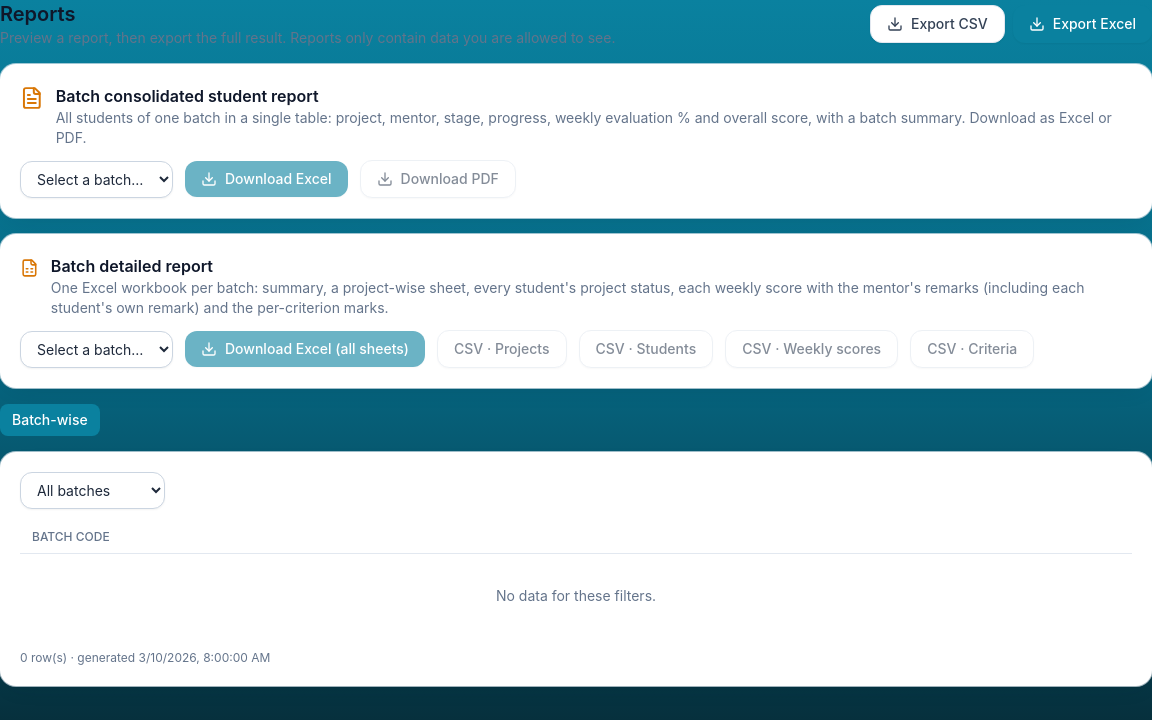
Test: batch detailed report downloads › shows a readable error when the download fails
Select "B1 – Batch One" in the dropdown named "Batch for detailed report" at (96, 349), box [20,330,173,368]
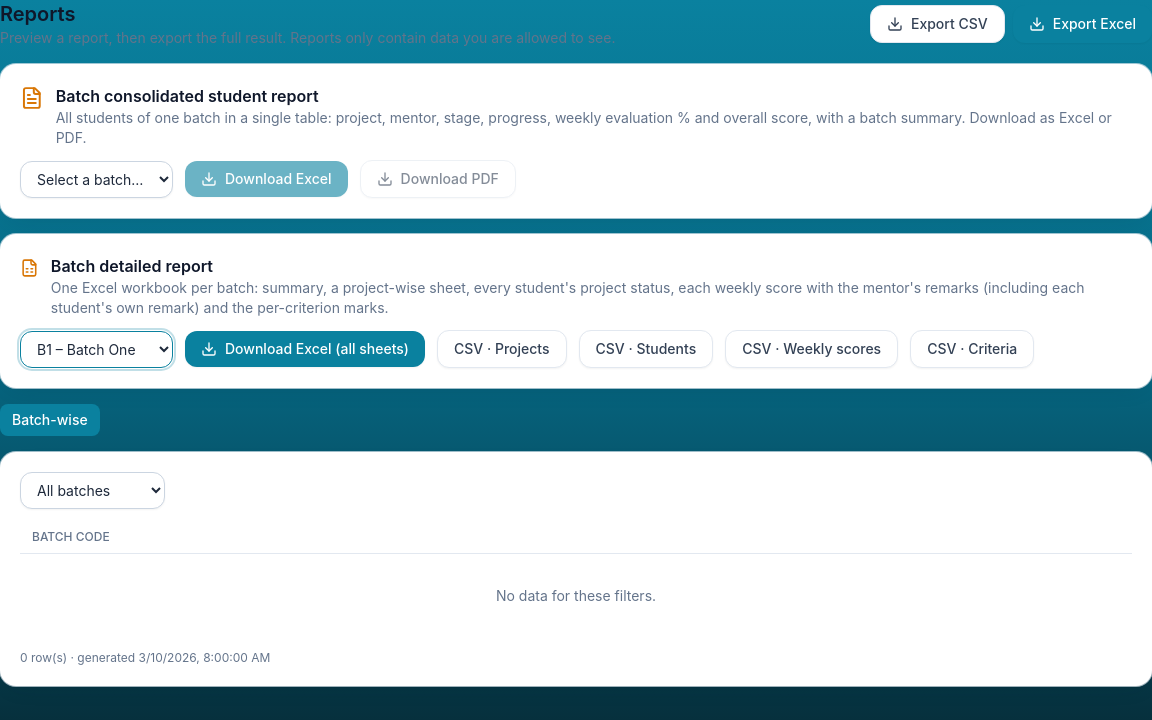
Click the button "Download Excel (all sheets)" at (305, 349), box [185,331,425,367]
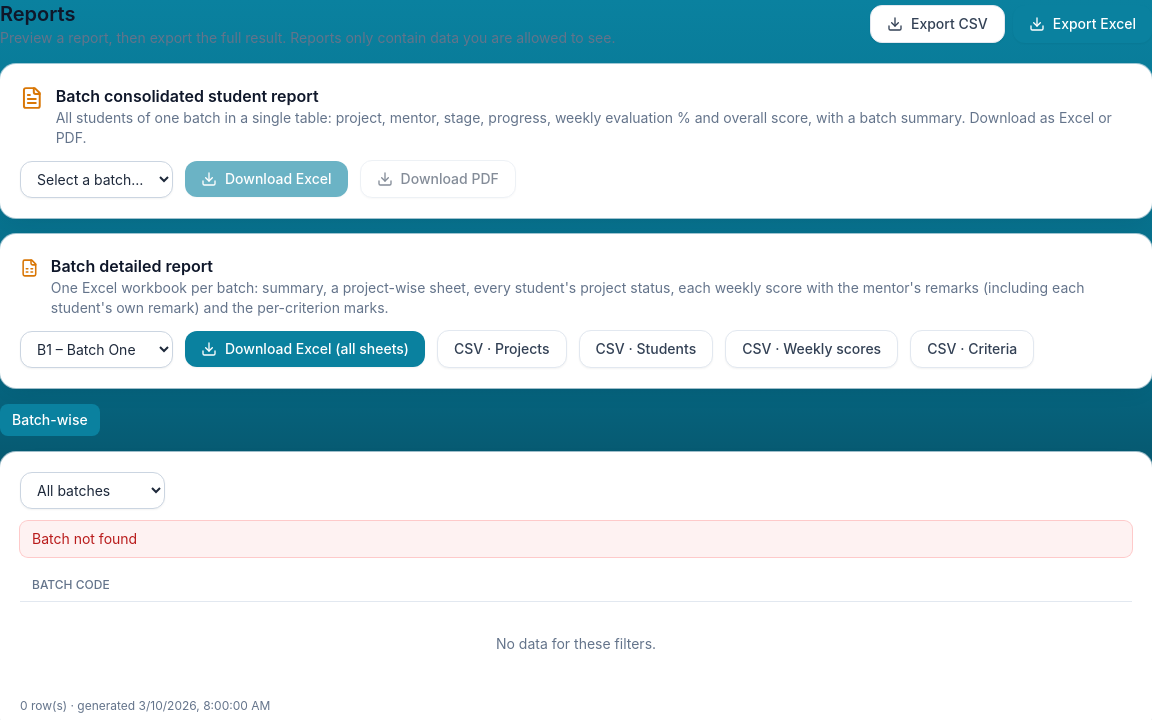
Now the message reads "Batch not found", box [32,530,137,547]
